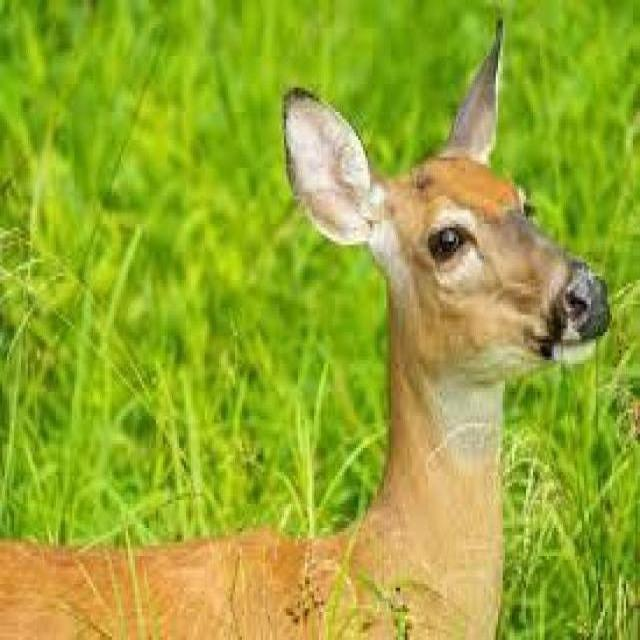deer: (135, 39, 622, 630)
